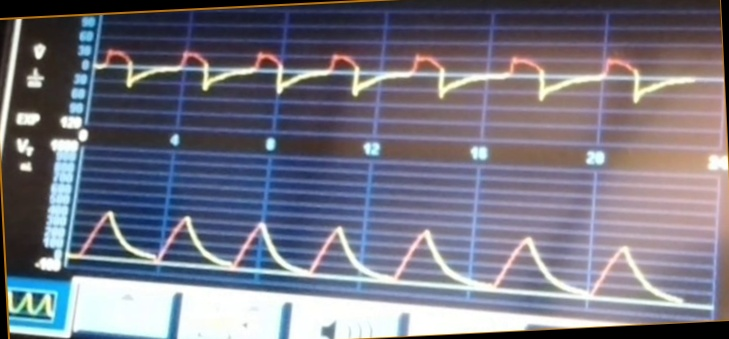Normal Flow: (95, 25, 696, 130)
Normal Volume: (74, 197, 680, 302)
